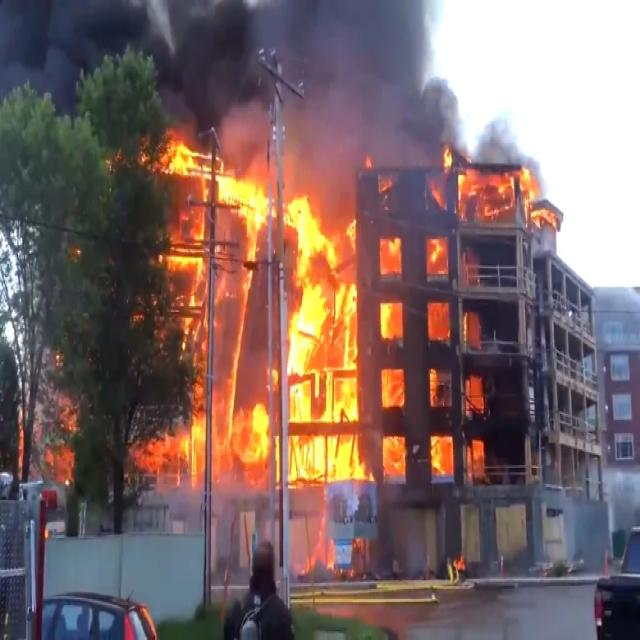Severely_Damaged: (170, 133, 568, 573)
